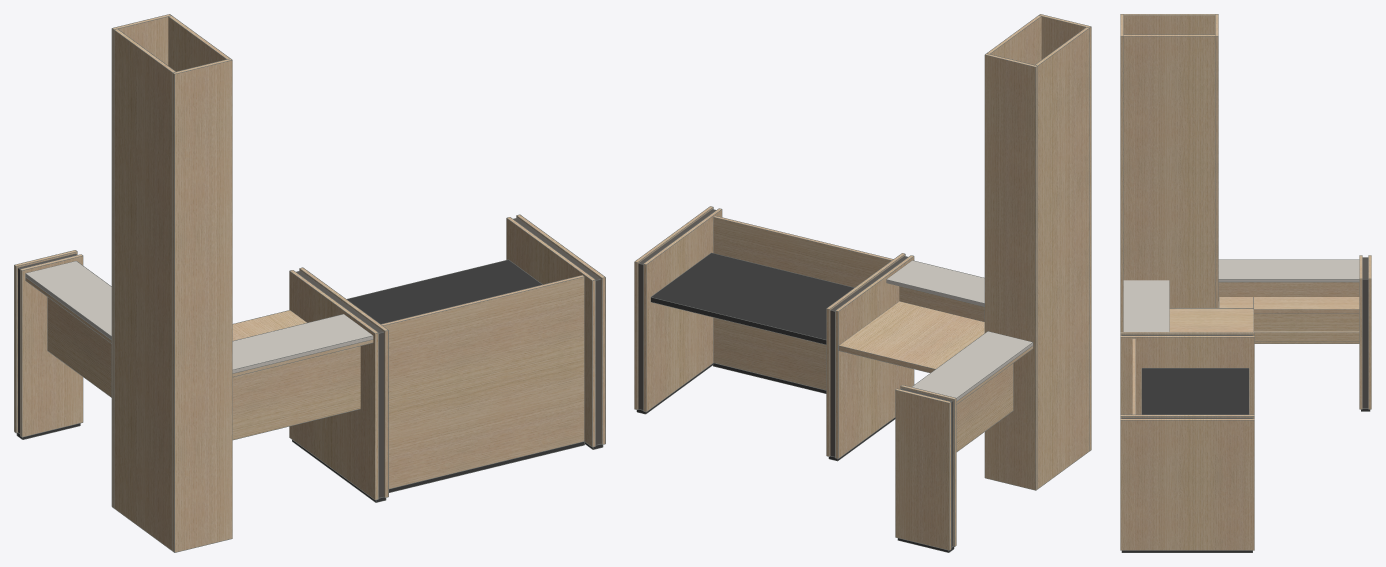
Rendered from modell.glb.
The picture shows the model from 3 angles, left to right: view 1: azimuth 30°, elevation 25°; view 2: azimuth 150°, elevation 25°; view 3: azimuth 270°, elevation 25°; orthographic projection. The views are drawn at different scales.
Parts seen in each view (by area): view 1: 2025-284 C04 Resepsjon disk; view 2: 2025-284 C04 Resepsjon disk; view 3: 2025-284 C04 Resepsjon disk.
Boxes of the visible parts, x1,y1,x2,y2 form: 2025-284 C04 Resepsjon disk: [14, 14, 605, 552]; 2025-284 C04 Resepsjon disk: [634, 14, 1091, 552]; 2025-284 C04 Resepsjon disk: [1120, 14, 1371, 552].
Size of the model in its own units: 2547 by 2703 by 1643.
Materials: 5 (1 with a texture image).
